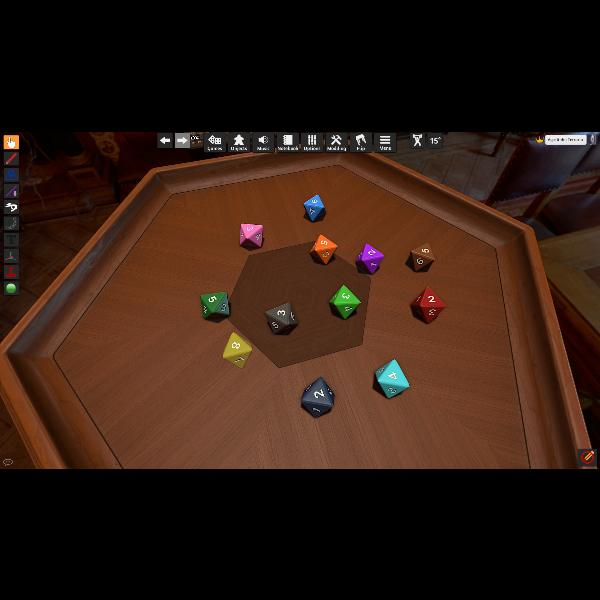d8: (299, 376, 332, 416), (410, 286, 444, 323), (374, 358, 406, 396), (329, 284, 360, 320), (264, 301, 296, 333), (224, 332, 252, 368), (356, 242, 382, 274), (200, 291, 228, 319), (310, 234, 336, 264), (409, 242, 433, 272), (302, 194, 323, 222), (240, 222, 262, 248)
